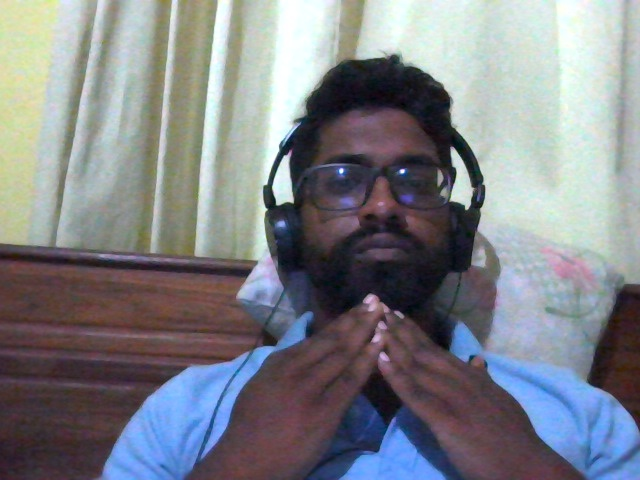Thank you: (139, 276, 608, 480)
